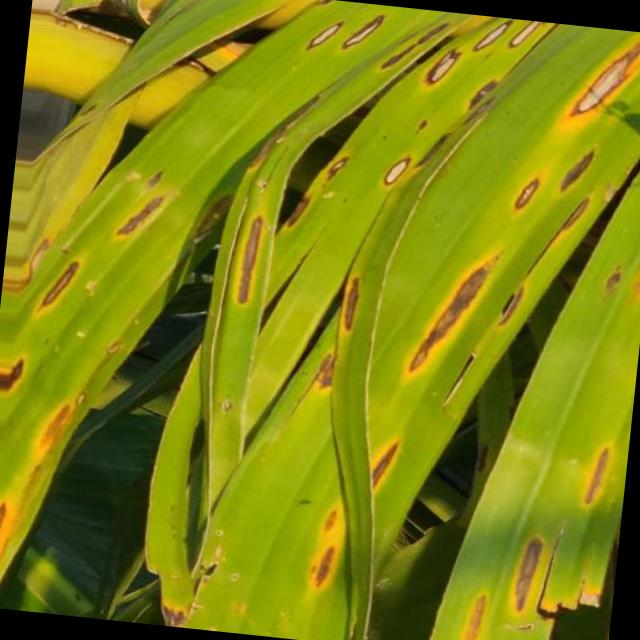Banana_Yellow_Sigatoka: (350, 25, 640, 400), (0, 181, 173, 620), (205, 112, 368, 324), (467, 513, 620, 640)
